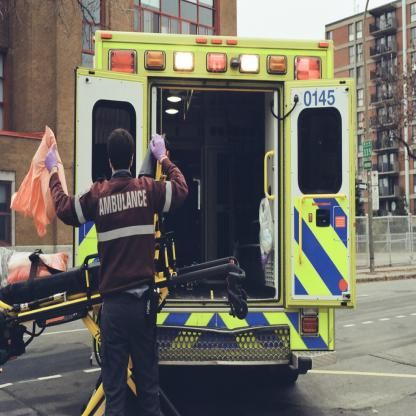Ambulance: (74, 30, 356, 382)
